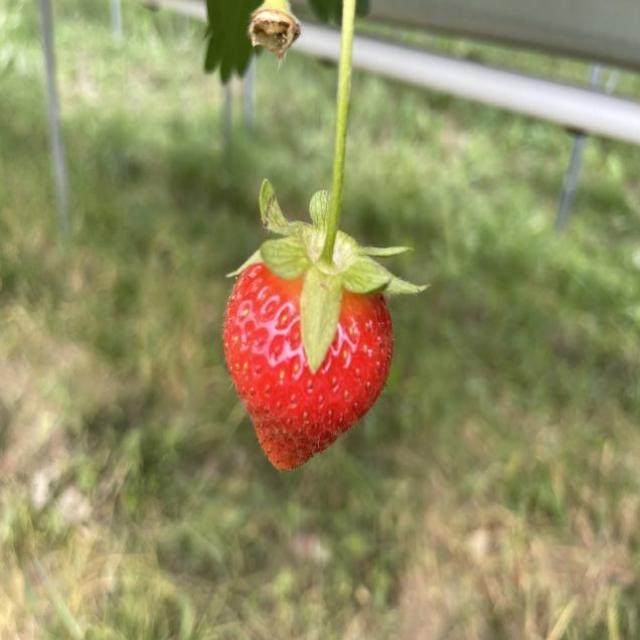stem: (254, 20, 425, 372)
strawberryR: (224, 263, 392, 470)
